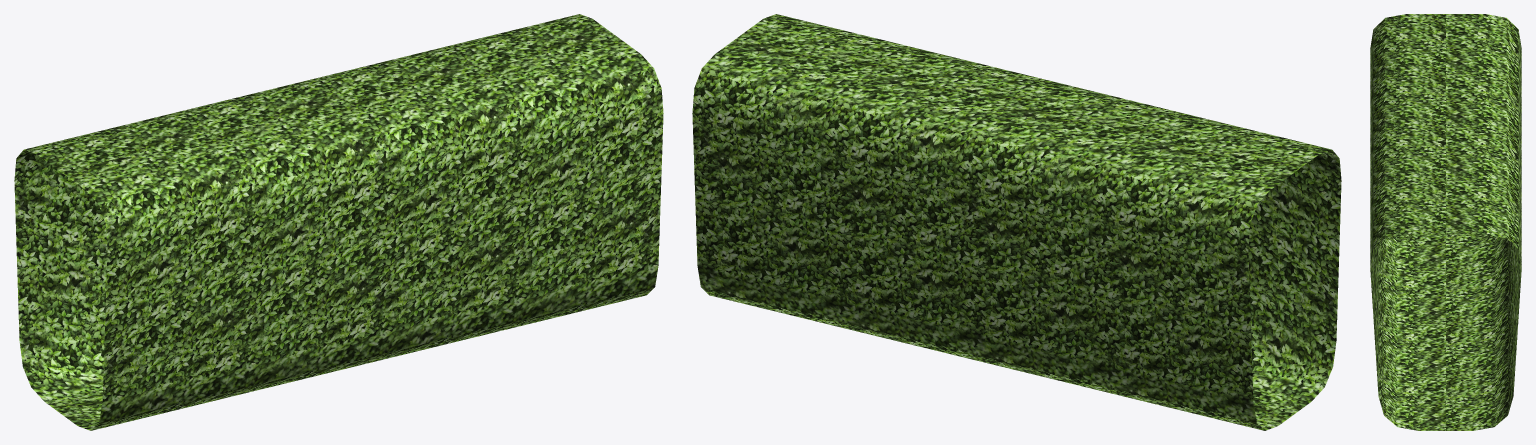
File: privet_hedge01_low.DAE
3 views of the same model, side by side, from view 1: azimuth 30°, elevation 25°; view 2: azimuth 150°, elevation 25°; view 3: azimuth 270°, elevation 25° (orthographic). The views are drawn at different scales.
Parts seen in each view (by area): view 1: Box001; view 2: Box001; view 3: Box001.
Boxes of the visible parts, x1,y1,x2,y2 form: Box001: (14, 14, 663, 430); Box001: (692, 14, 1341, 430); Box001: (1370, 14, 1521, 430).
Bounding box in the file's own units: 4 × 1.16 × 1.66.
